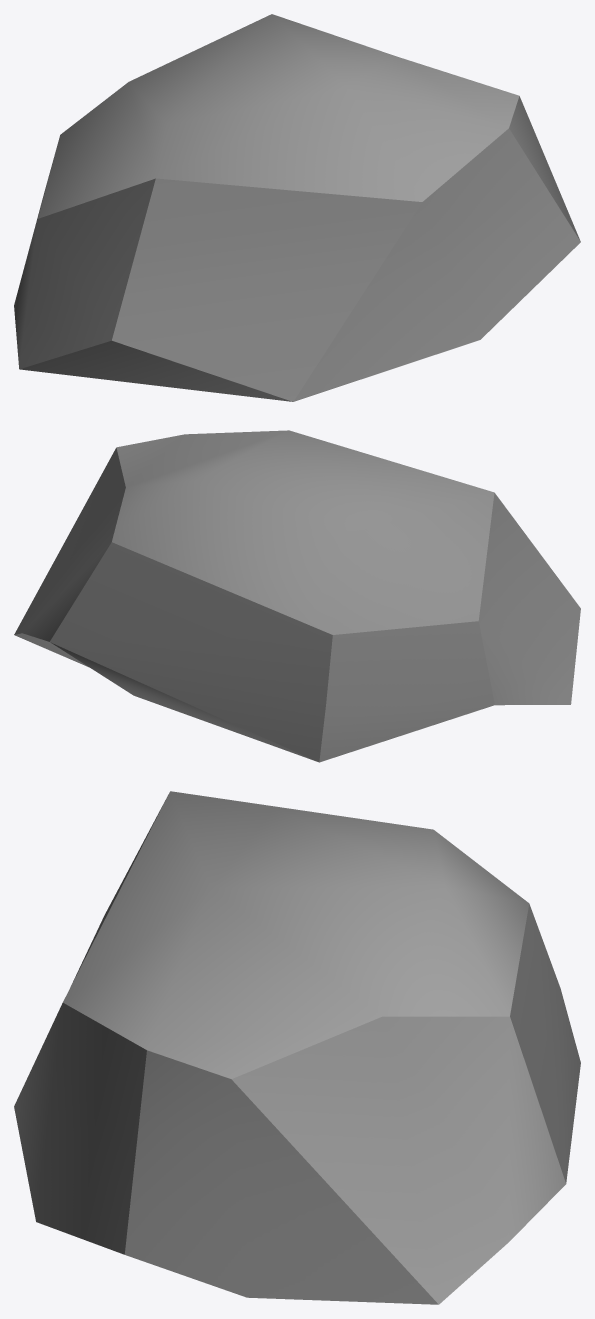
The model's file is SK_Rock_002.FBX.
The picture shows the model from 3 angles, top to bottom: view 1: azimuth 30°, elevation 25°; view 2: azimuth 150°, elevation 25°; view 3: azimuth 270°, elevation 25°; orthographic projection. The views are drawn at different scales.
Parts seen in each view (by area): view 1: SK_Rock_002; view 2: SK_Rock_002; view 3: SK_Rock_002.
Part boxes in pixels (x1=…): SK_Rock_002: x1=14, y1=14, x2=580, y2=401; SK_Rock_002: x1=14, y1=430, x2=580, y2=762; SK_Rock_002: x1=14, y1=791, x2=580, y2=1304.
Size of the model in its own units: 59.89 by 26.49 by 41.83.
1 material, 1 textured.
